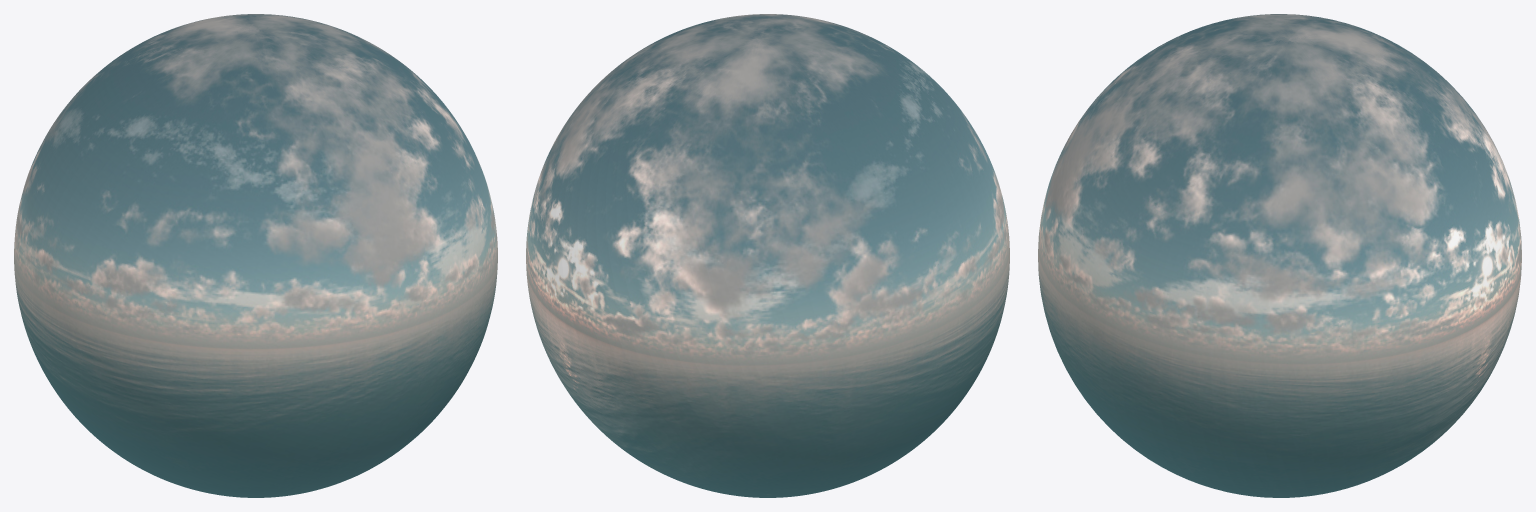
The model's file is sky.glb.
3 renders of one model, left to right at view 1: azimuth 30°, elevation 25°; view 2: azimuth 150°, elevation 25°; view 3: azimuth 270°, elevation 25°, orthographic.
Parts seen in each view (by area): view 1: Sphere; view 2: Sphere; view 3: Sphere.
Boxes of the visible parts, x1,y1,x2,y2 form: Sphere: (14, 14, 497, 497); Sphere: (526, 14, 1009, 497); Sphere: (1038, 14, 1521, 497).
Bounding box in the file's own units: 4.07 × 4.07 × 4.07.
1 material, 1 textured.
